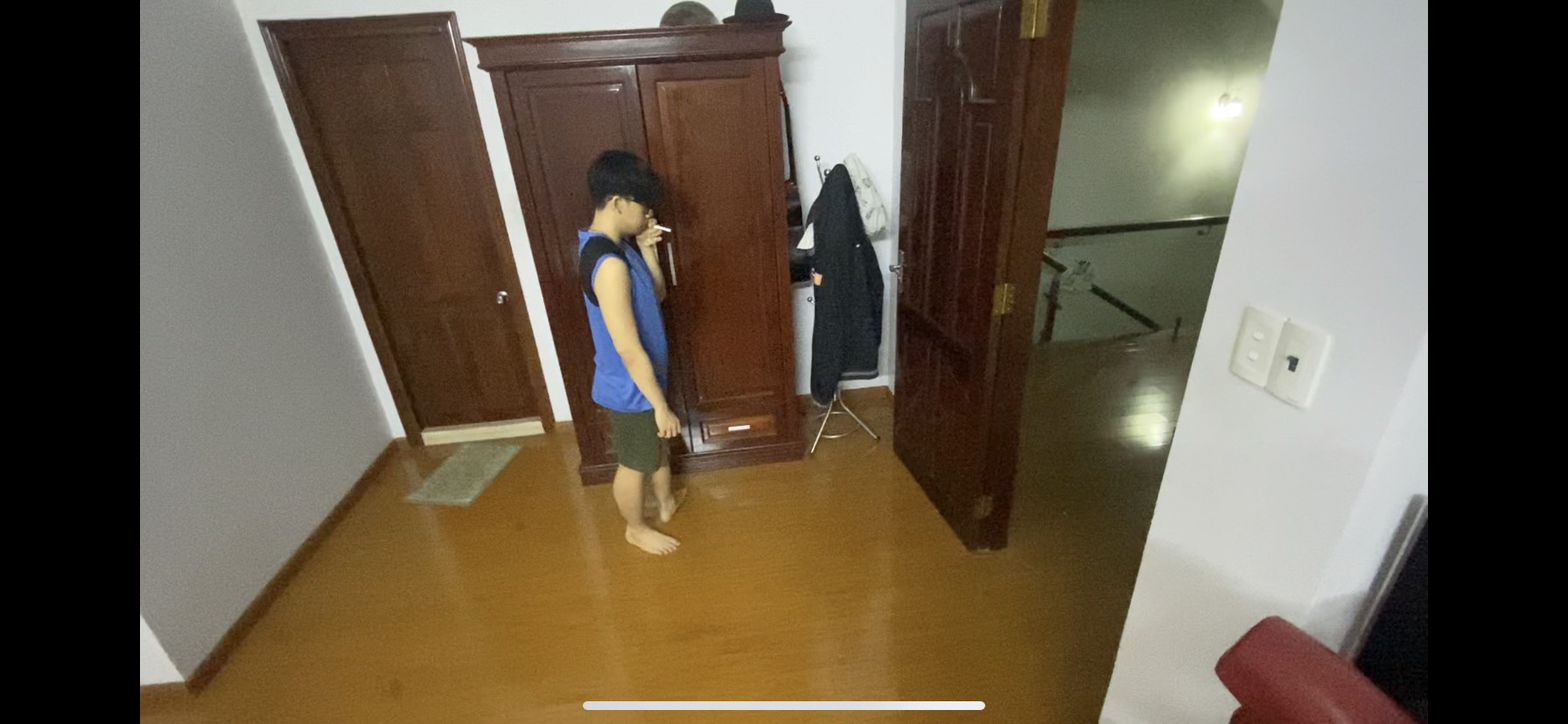cigarette: (654, 219, 672, 234)
person: (554, 143, 708, 567)
